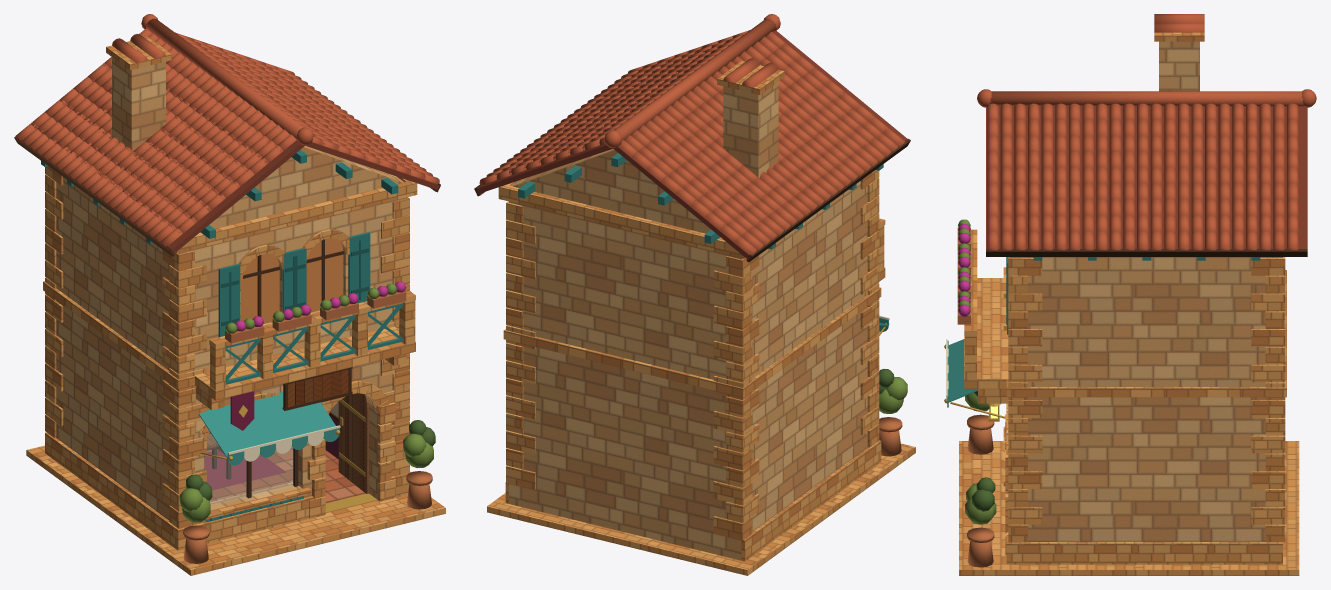
Rendered from house_small_shutters.glb.
3 renders of one model, left to right at view 1: azimuth 30°, elevation 25°; view 2: azimuth 150°, elevation 25°; view 3: azimuth 270°, elevation 25°, orthographic. The views are drawn at different scales.
Parts seen in each view (by area): view 1: exterior_walls, exterior_trim, roof_tiles, facade_details, windows, roof_structure, opt_awning, planters, door_frame, interior_floor, door_leaf, sign_board; view 2: exterior_walls, exterior_trim, roof_tiles, roof_structure, planters; view 3: exterior_walls, roof_tiles, exterior_trim, roof_structure, facade_details, planters, opt_awning, door_frame.
Part boxes in pixels (x1,y1,x2,y2): exterior_walls: (55,145,407,520); exterior_trim: (26,166,445,575); roof_tiles: (15,14,439,246); facade_details: (194,281,415,430); windows: (204,232,370,522); roof_structure: (14,34,440,256); opt_awning: (198,392,340,465); planters: (179,420,435,563); door_frame: (307,380,395,518); interior_floor: (205,446,365,503); door_leaf: (338,393,368,493); sign_board: (282,367,352,410); exterior_walls: (509,149,868,560); exterior_trim: (487,170,915,575); roof_tiles: (479,14,905,254); roof_structure: (474,30,910,262); planters: (878,369,907,456); exterior_walls: (1010,257,1282,541); roof_tiles: (977,89,1316,250); exterior_trim: (959,257,1299,575); roof_structure: (986,14,1307,260); facade_details: (957,219,1008,403); planters: (965,391,996,567); opt_awning: (944,339,1005,418); door_frame: (1005,403,1008,555).
Bounding box in the file's own units: 5.99 × 9.22 × 6.84.
Materials: 26 (5 with a texture image).
